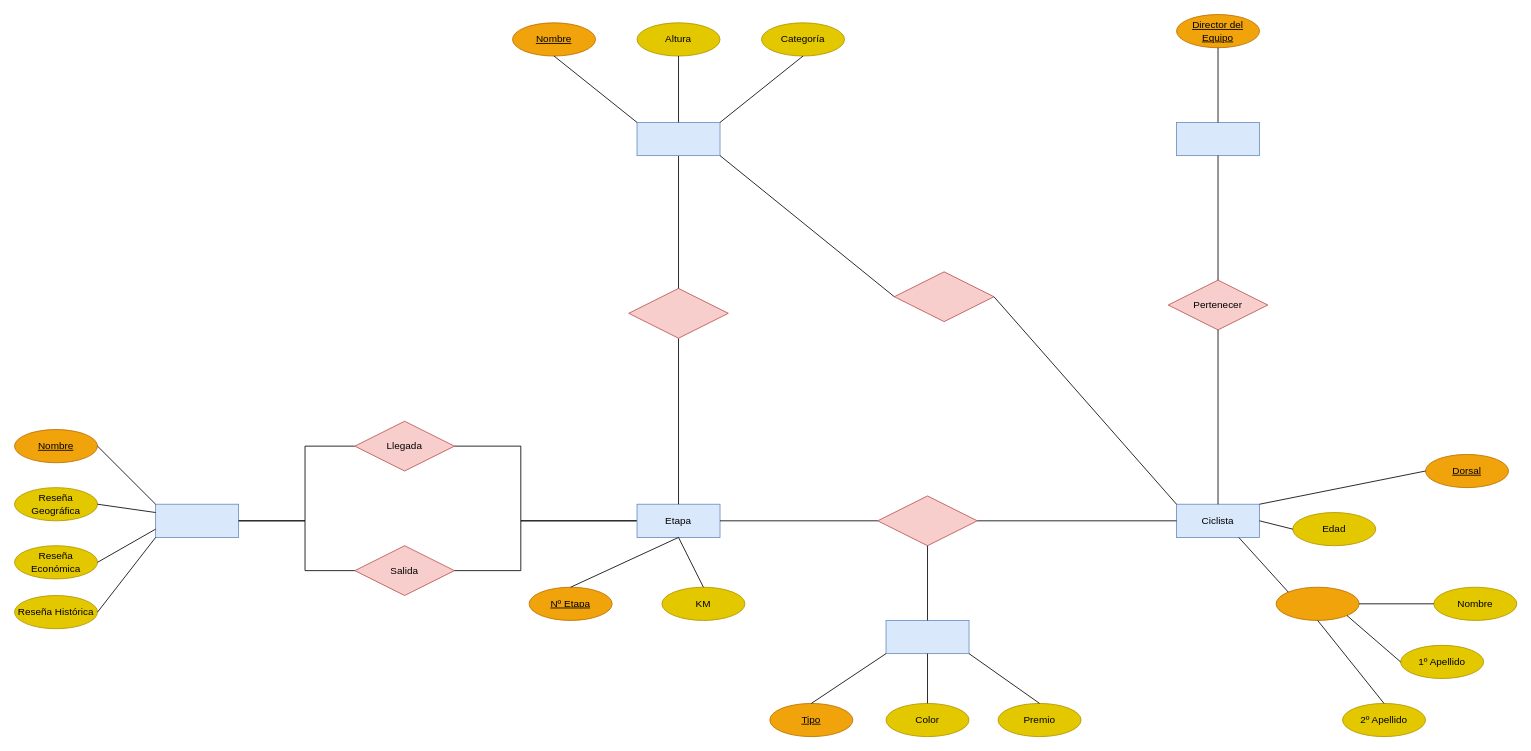
Image size: 1531x751. Some labels were removed from this diagram. Each missing label, with the centre of its shape:
"(Nombre)" belongs at (x=1317, y=603).
"Ciudad" belongs at (x=197, y=520).
"Equipo" belongs at (x=1218, y=139).
"Ganar" belongs at (x=943, y=296).
"Maillot" belongs at (x=927, y=637).
"Pasa por" belongs at (x=678, y=313).
"Prueba" belongs at (x=927, y=520).
"Puertos" belongs at (x=678, y=139).
